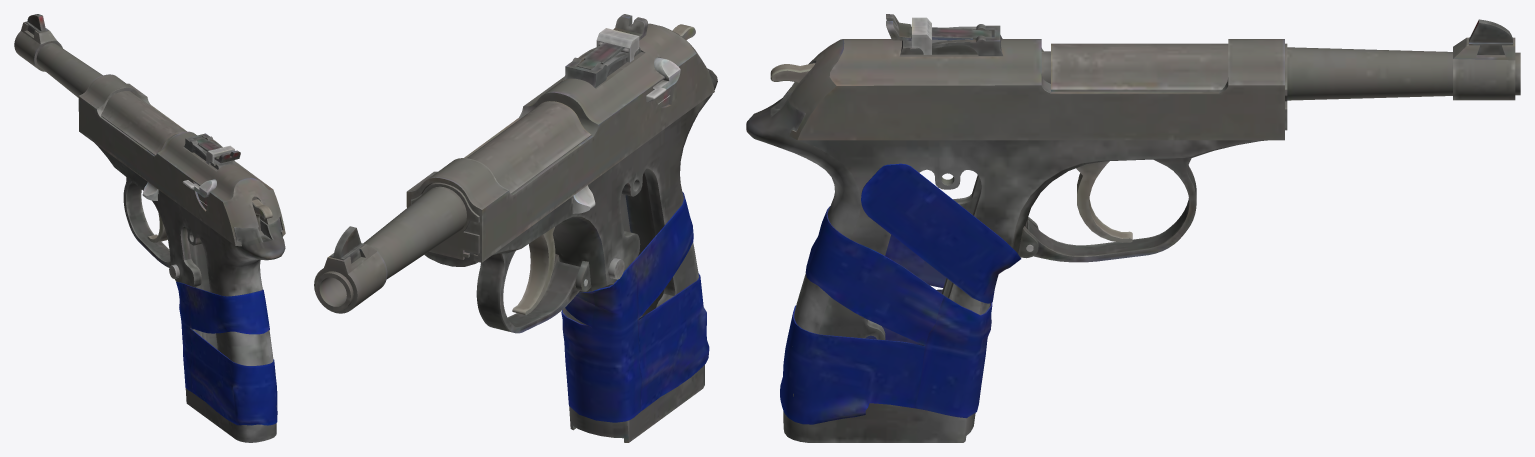
The model's file is gun_pistol_ph.glb.
3 renders of one model, left to right at view 1: azimuth 30°, elevation 25°; view 2: azimuth 150°, elevation 25°; view 3: azimuth 270°, elevation 25°, orthographic. The views are drawn at different scales.
Visible parts, largest first — view 1: service_pistol_pistol_b, service_pistol_slide_b, service_pistol_hammer_b; view 2: service_pistol_pistol_b, service_pistol_slide_b, service_pistol_trigger_b; view 3: service_pistol_pistol_b, service_pistol_slide_b, service_pistol_trigger_b.
Part boxes in pixels (box(x1,y1,x2,y2)): service_pistol_pistol_b: box(14, 14, 285, 442); service_pistol_slide_b: box(78, 74, 285, 246); service_pistol_hammer_b: box(252, 199, 272, 235); service_pistol_pistol_b: box(314, 68, 717, 442); service_pistol_slide_b: box(406, 14, 714, 262); service_pistol_trigger_b: box(512, 227, 555, 315); service_pistol_pistol_b: box(746, 19, 1520, 442); service_pistol_slide_b: box(788, 14, 1284, 140); service_pistol_trigger_b: box(1076, 161, 1132, 242).
Size of the model in its own units: 0.0292 by 0.1295 by 0.2219.
1 material, 1 textured.
